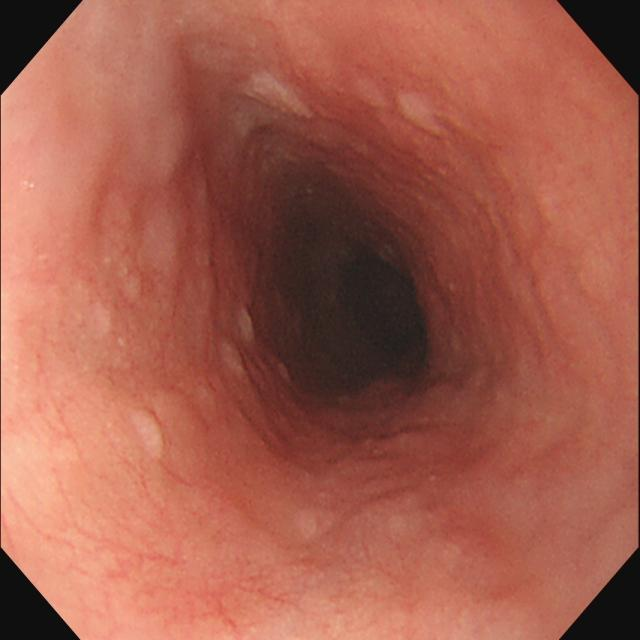E: (294, 237, 426, 391)
J: (229, 62, 323, 122), (389, 83, 454, 145)
